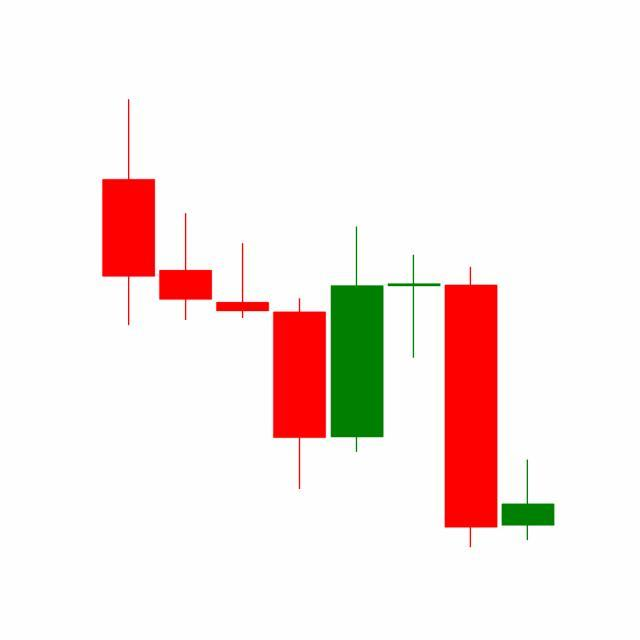Hikkake Pattern: (214, 223, 501, 549)
